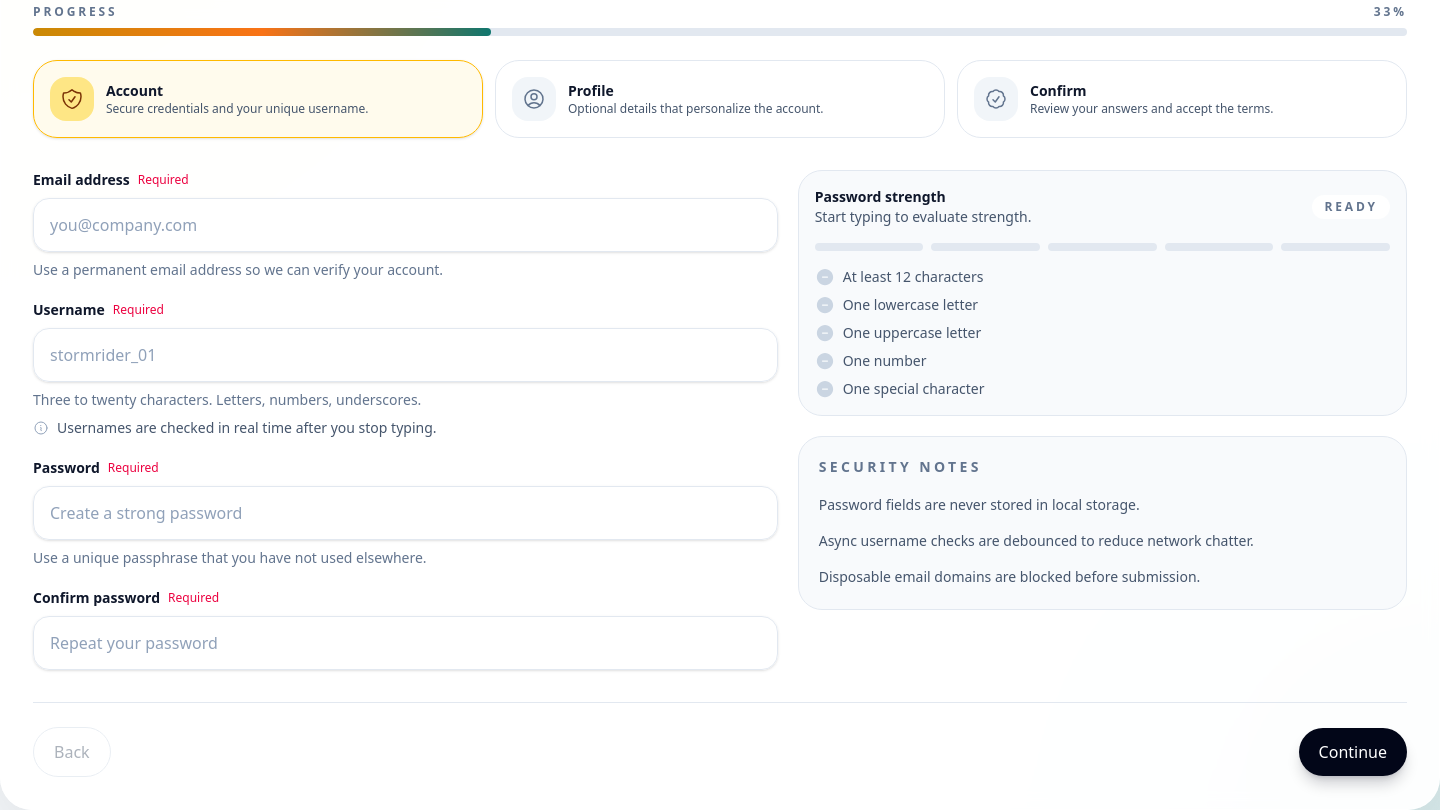
it: RegistrationForm › blocks progression when required account fields are missing
(page scrolled)
Step 1. Click the button "Continue" → (1353, 752), box [1299,728,1407,776]
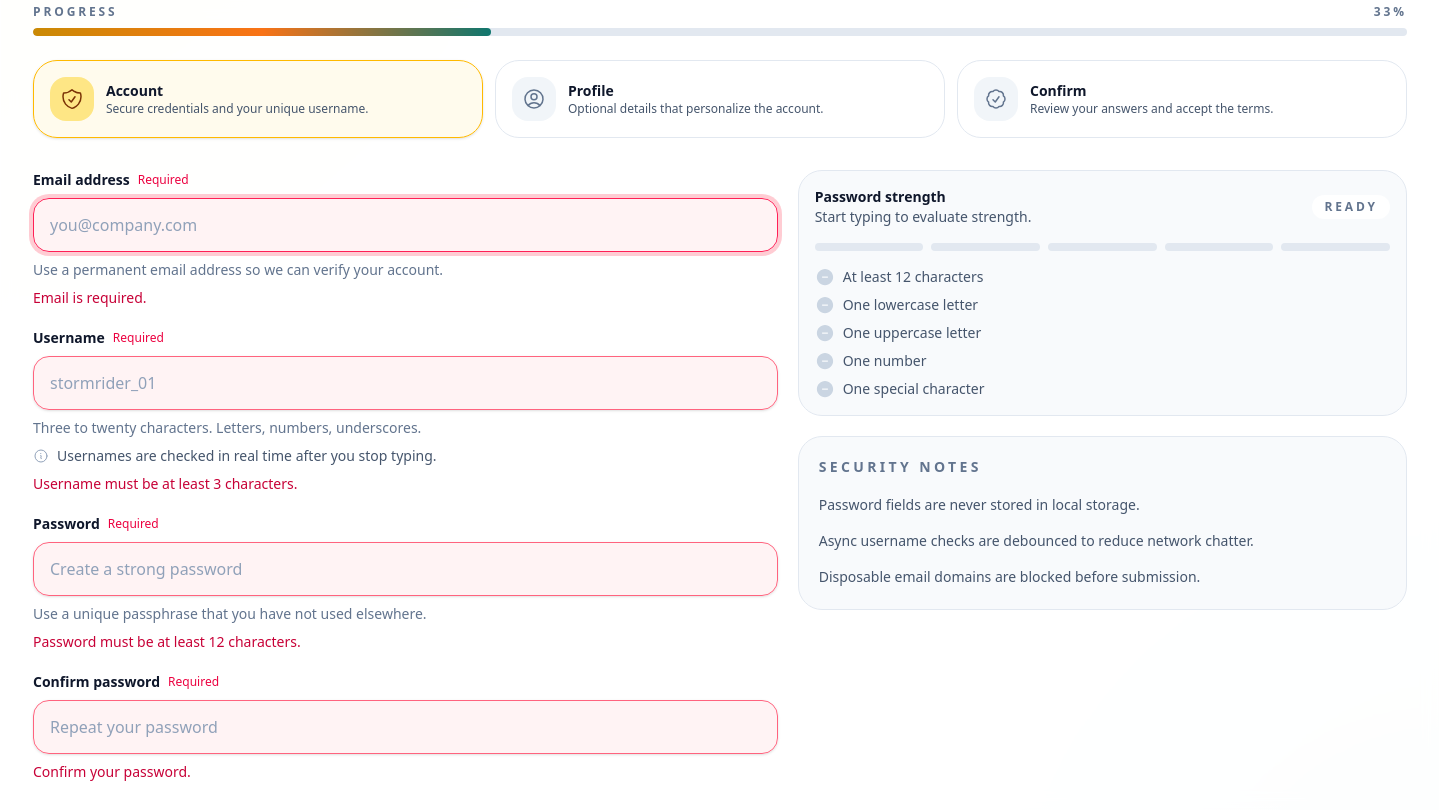
expect the text "Email is required." is shown: met, box [33,288,147,307]
expect the text "Username must be at least 3 characters." is shown: met, box [33,474,298,493]
